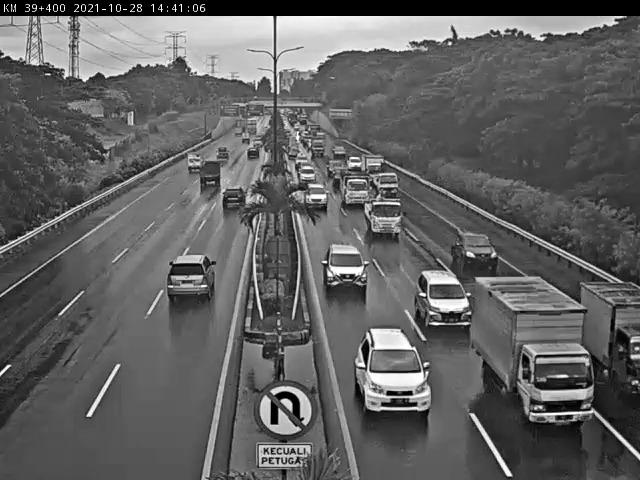car: (352, 327, 434, 414), (413, 269, 473, 330), (322, 244, 366, 291), (451, 232, 499, 270), (222, 185, 248, 209)
mid truck: (472, 277, 594, 427), (166, 254, 216, 301), (363, 195, 400, 235)
small truck: (581, 280, 640, 385)
